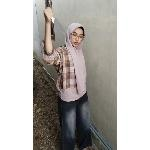Pisau: (47, 9, 69, 39)
